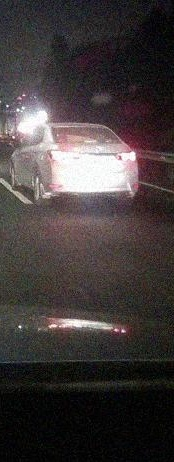L_light: (47, 150, 76, 161)
R_light: (114, 151, 136, 161)
T_light: (83, 139, 97, 144)
night-no: (46, 123, 138, 206)
